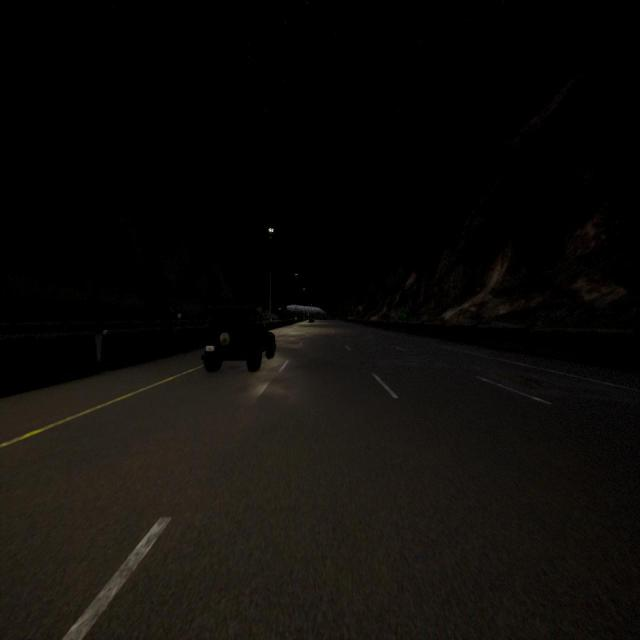Traffic_Signs: (358, 305, 363, 311), (177, 313, 182, 318)
Vehicle: (202, 307, 276, 371), (308, 315, 315, 323)
